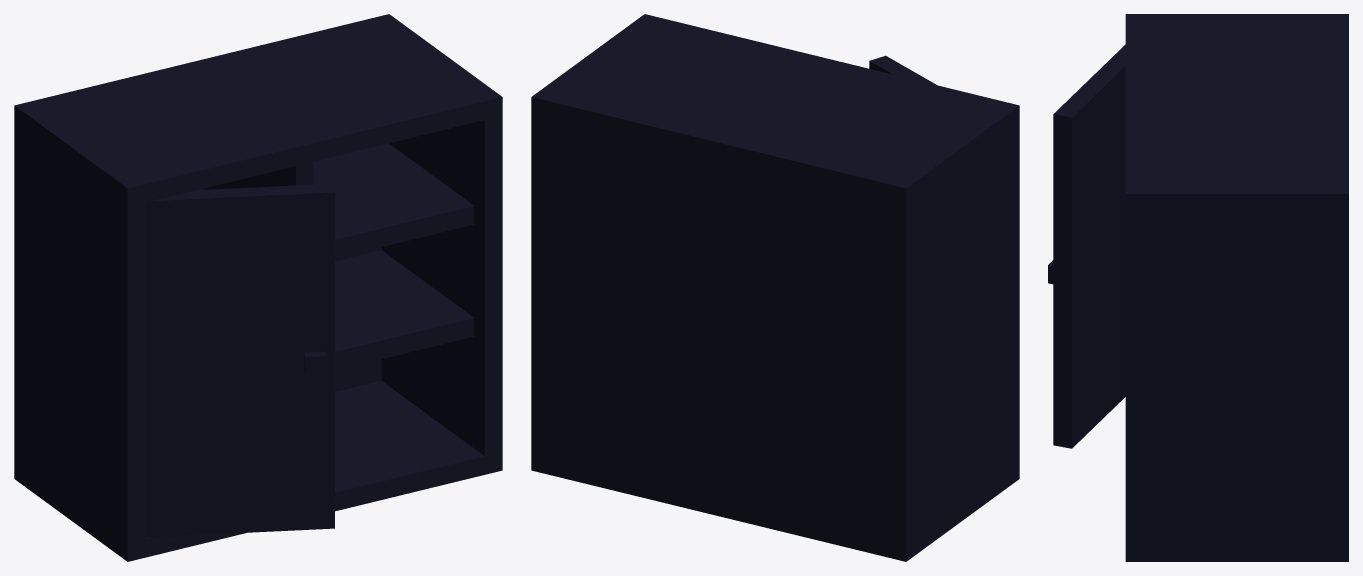
File: Armadietto.fbx
The picture shows the model from 3 angles, left to right: view 1: azimuth 30°, elevation 25°; view 2: azimuth 150°, elevation 25°; view 3: azimuth 270°, elevation 25°; orthographic projection.
Visible parts, largest first — view 1: pCube1; view 2: pCube1; view 3: pCube1.
Part boxes in pixels (x1,y1,x2,y2): pCube1: (14, 14, 502, 561); pCube1: (531, 14, 1019, 561); pCube1: (1048, 14, 1348, 561).
Bounding box in the file's own units: 347 × 331 × 245.
